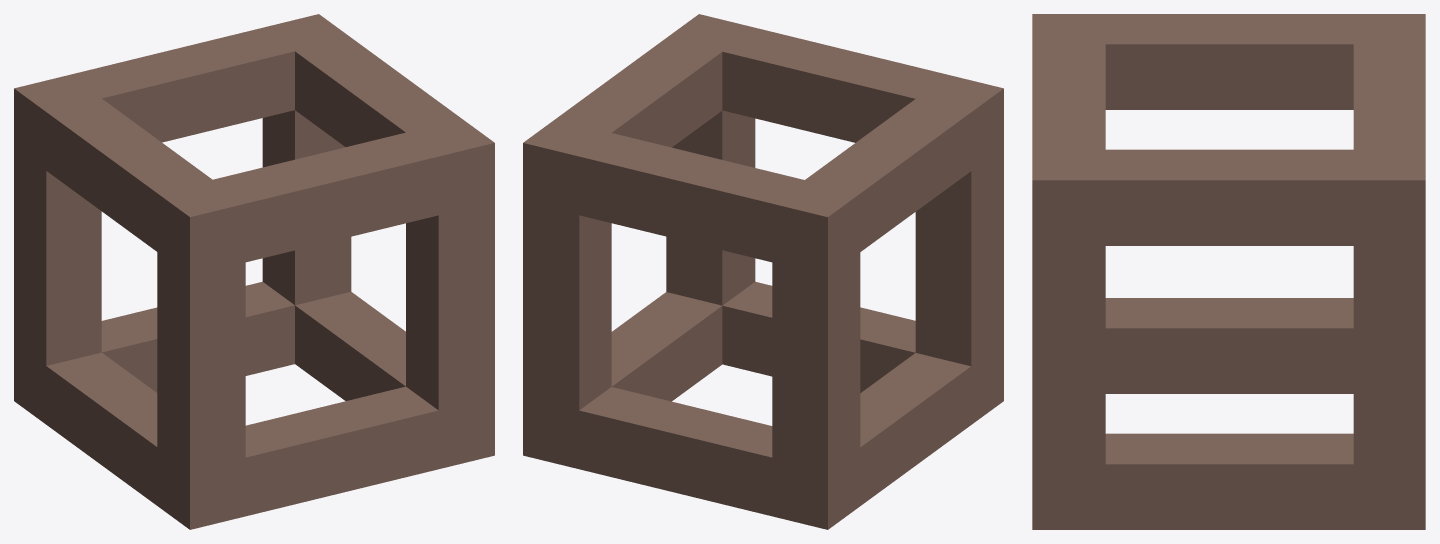
The model's file is hollow_box.glb.
3 views of the same model, side by side, from view 1: azimuth 30°, elevation 25°; view 2: azimuth 150°, elevation 25°; view 3: azimuth 270°, elevation 25° (orthographic). The views are drawn at different scales.
Parts seen in each view (by area): view 1: rock02_Mesh_007_Base_0.4361; view 2: rock02_Mesh_007_Base_0.4361; view 3: rock02_Mesh_007_Base_0.4361.
Boxes of the visible parts, bbox=[...] form: rock02_Mesh_007_Base_0.4361: bbox=[14, 14, 494, 529]; rock02_Mesh_007_Base_0.4361: bbox=[523, 14, 1003, 529]; rock02_Mesh_007_Base_0.4361: bbox=[1032, 14, 1425, 529].
Size of the model in its own units: 0.6 by 0.5881 by 0.6.
Materials: 1 (1 with a texture image).
